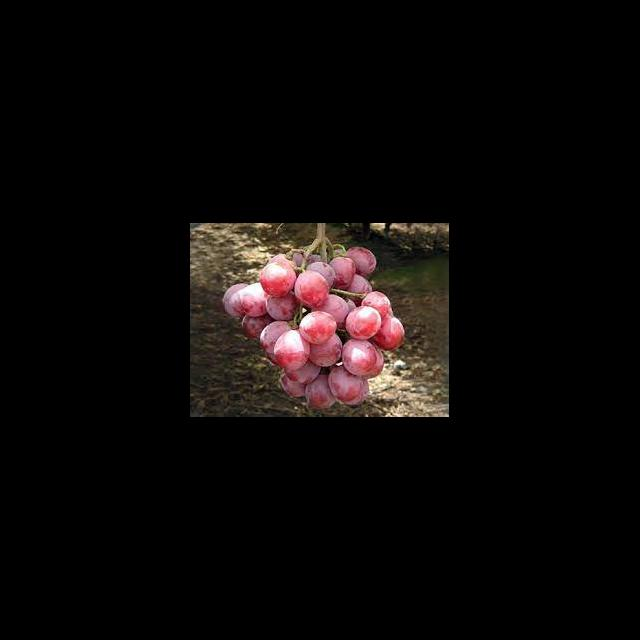grape: (222, 245, 406, 410)
